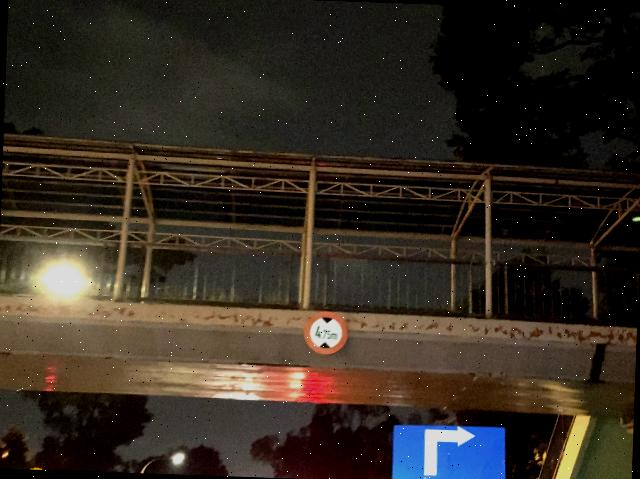han-che-chieu-cao: (303, 310, 349, 356)
